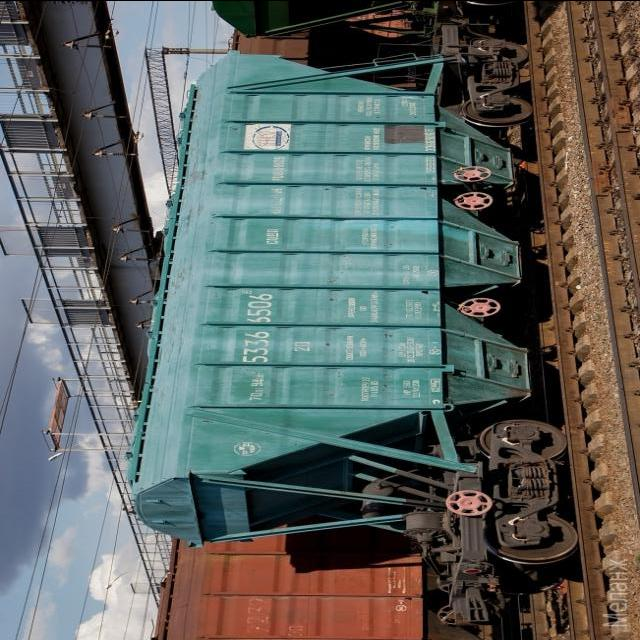wagon: (240, 292, 278, 364), (422, 130, 437, 152)
